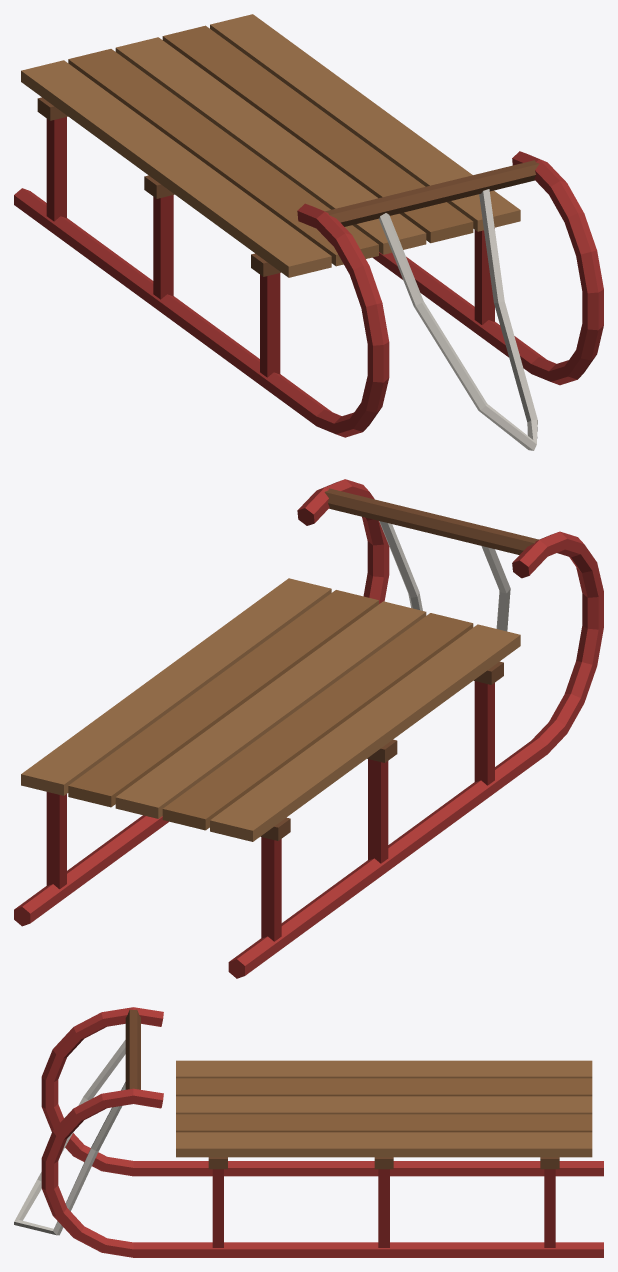
Rendered from sled.glb.
3 renders of one model, top to bottom at view 1: azimuth 30°, elevation 25°; view 2: azimuth 150°, elevation 25°; view 3: azimuth 270°, elevation 25°, orthographic. The views are drawn at different scales.
Visible parts, largest first — view 1: sled; view 2: sled; view 3: sled.
Boxes of the visible parts, x1=… form: sled: x1=14, y1=14, x2=603, y2=450; sled: x1=14, y1=479, x2=603, y2=978; sled: x1=14, y1=1007, x2=603, y2=1257.
Bounding box in the file's own units: 0.56 × 0.484 × 1.53.
